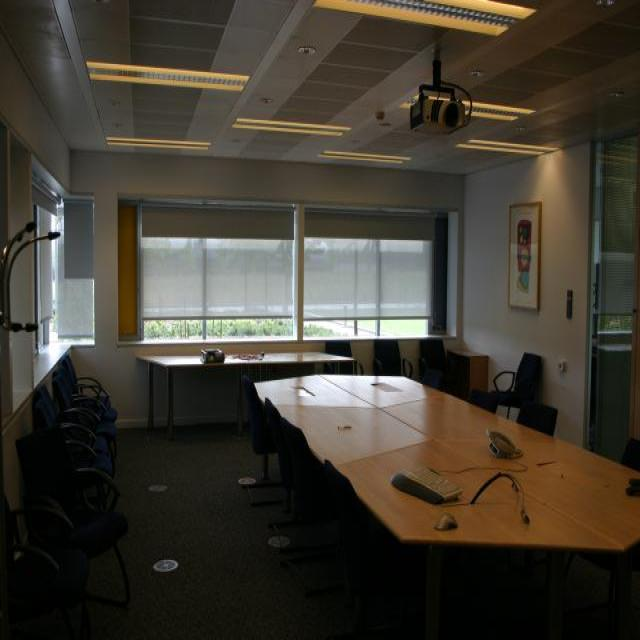Table: (239, 364, 640, 640), (132, 318, 362, 443)
chair: (15, 424, 131, 622), (298, 448, 418, 632), (4, 479, 98, 640), (268, 418, 340, 559), (34, 394, 118, 508), (42, 362, 119, 448), (213, 366, 274, 465), (252, 394, 309, 493), (482, 348, 546, 411), (406, 330, 459, 393), (322, 326, 365, 376), (509, 394, 556, 434), (366, 332, 406, 378)
